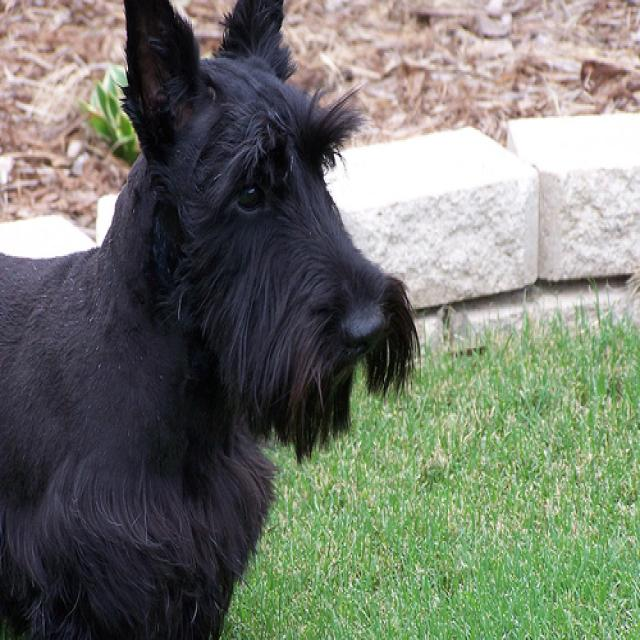dog-scottish_terrier: (1, 2, 431, 637)
